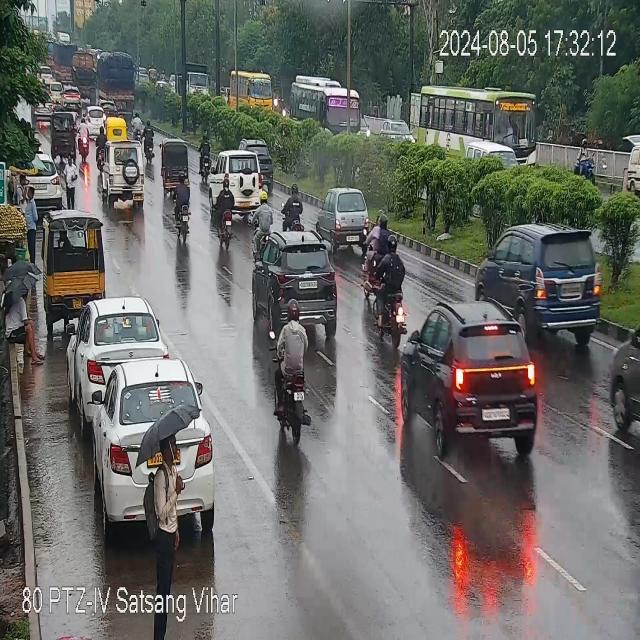2-wheelers: (273, 304, 309, 443), (377, 237, 402, 336), (364, 210, 388, 286), (210, 187, 242, 243), (168, 184, 197, 238), (254, 196, 280, 252), (280, 187, 311, 233), (199, 131, 212, 183), (78, 114, 90, 162), (96, 121, 106, 168), (145, 120, 154, 162), (130, 108, 142, 136)
auto: (44, 216, 109, 312), (160, 142, 193, 192), (106, 112, 128, 144)
bus: (413, 88, 542, 170), (294, 74, 366, 136), (228, 70, 284, 114)
car: (89, 359, 220, 532), (398, 304, 540, 457), (481, 226, 608, 341), (256, 232, 346, 331), (76, 299, 163, 397), (609, 311, 640, 439), (99, 120, 147, 194), (213, 149, 267, 205), (323, 189, 372, 247), (377, 121, 417, 143)
pedestrian: (153, 434, 184, 582), (8, 306, 44, 365), (26, 183, 36, 253), (65, 154, 77, 208), (17, 169, 25, 197)
truck: (68, 48, 143, 106), (170, 58, 211, 102)
